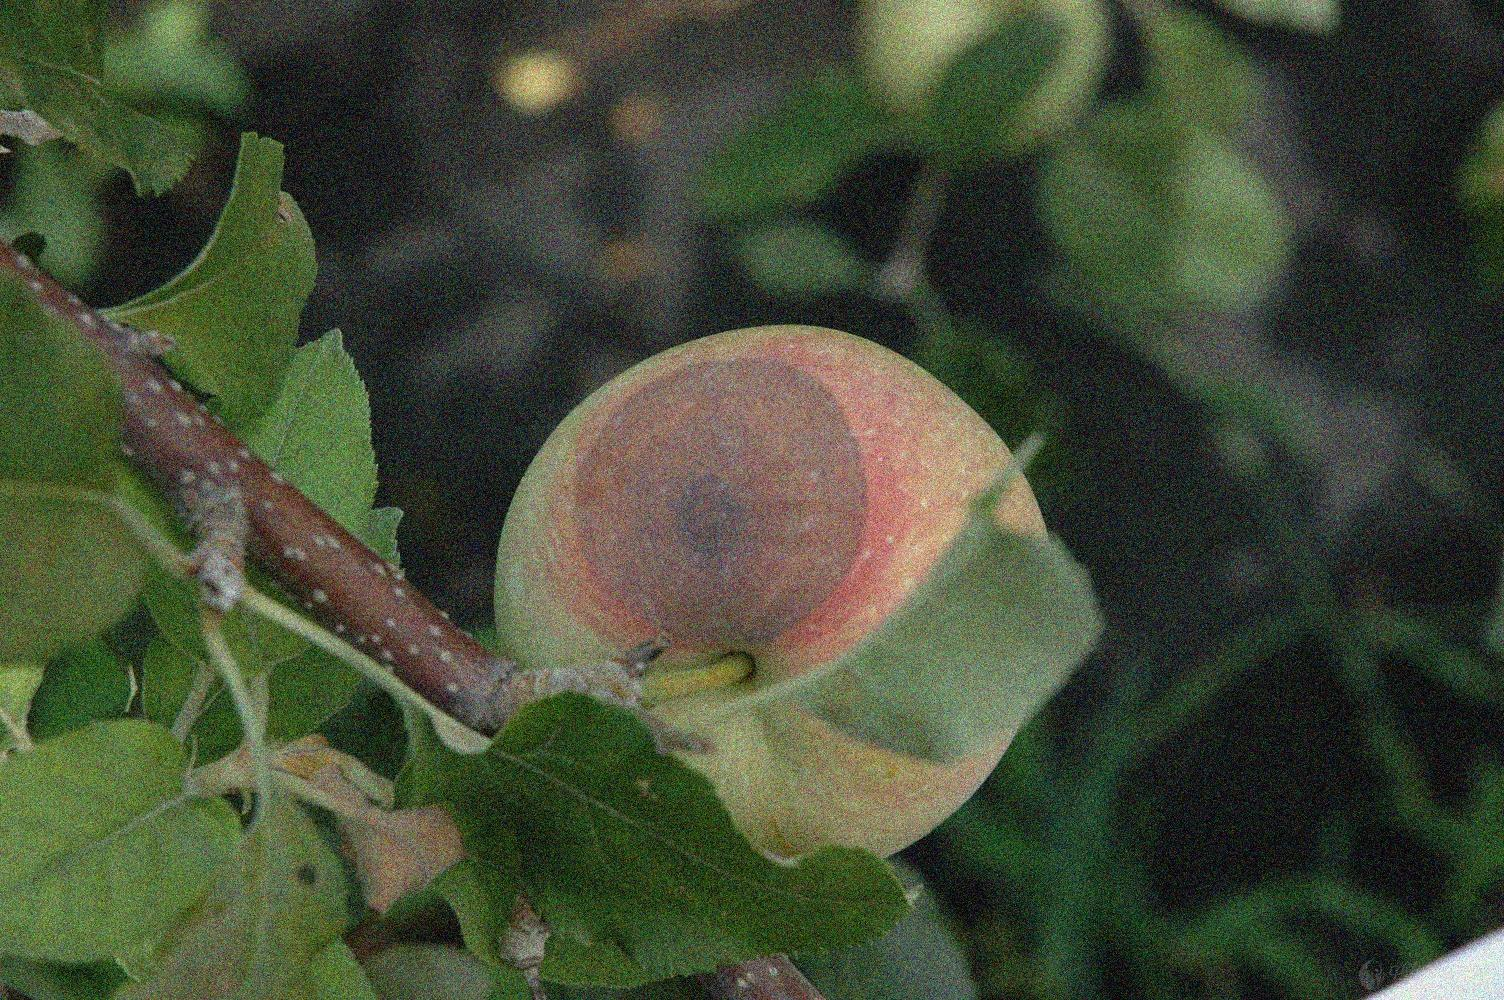rotten apple: (489, 319, 1055, 881)
